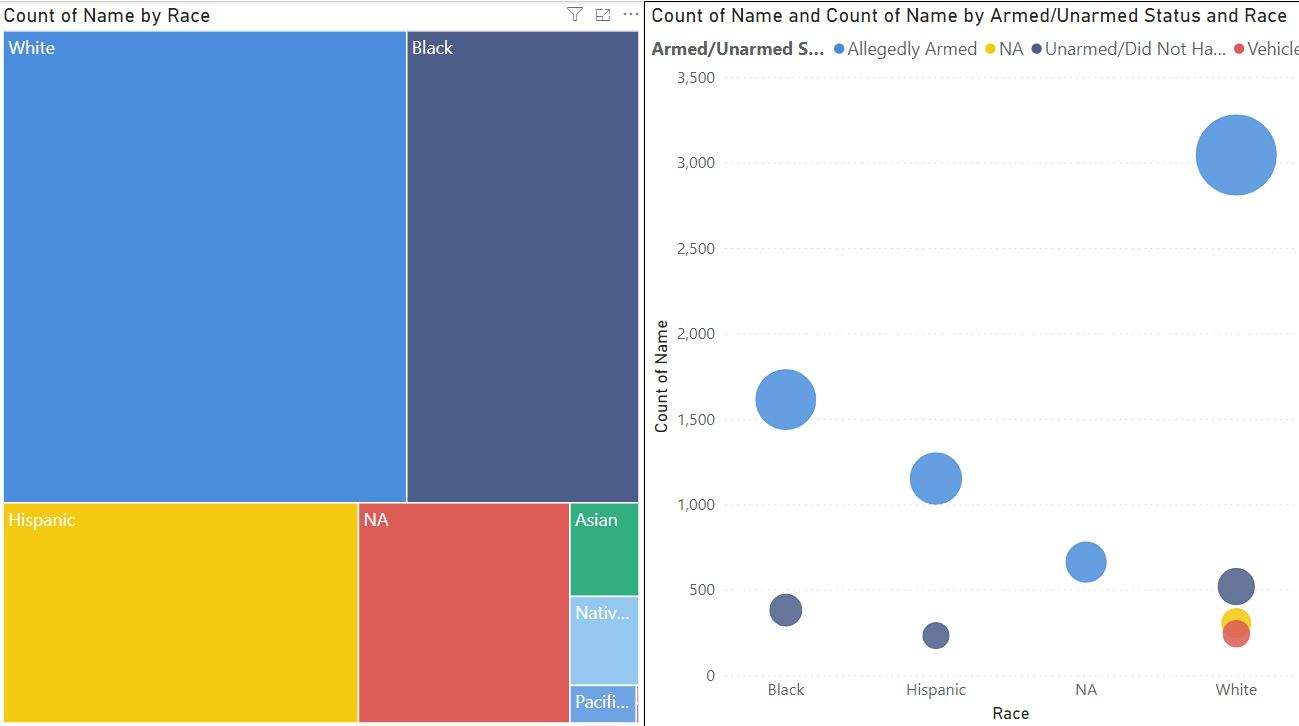

The dashboard page shown, as its layout file describes it:
{"tool":"powerbi","page":{"name":"Page 5","canvas":[1280,720],"ordinal":3},"visuals":[{"type":"treemap","fields":{"Group":["Data Corrected.Race"],"Values":["CountNonNull(Data Corrected.Name)"]},"box":[9.7,0,630.3,707.1],"z":0},{"type":"scatterChart","fields":{"Series":["Data Corrected.Armed/Unarmed Status"],"X":["Data Corrected.Race"],"Y":["Count(Data Corrected.Name)"],"Size":["Count(Data Corrected.Name)"]},"box":[640,0,640,707.1],"z":1}]}

Visuals, with their boxes in screenshot pixels (x1, y1, x2, y2), scaled from the page's 1280x720 canvas onto the 1299x726 screenshot:
treemap - Data Corrected.Race x CountNonNull(Data Corrected.Name): l=10, t=0, r=650, b=713
scatterChart - Data Corrected.Armed/Unarmed Status x Data Corrected.Race: l=650, t=0, r=1298, b=713
